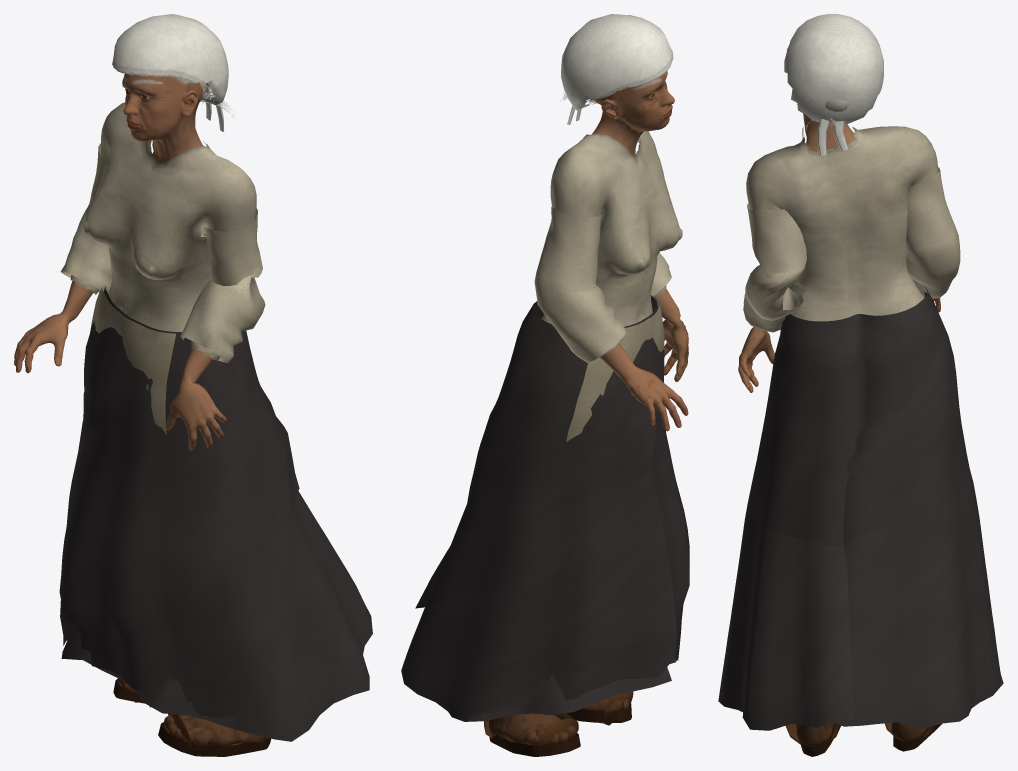
File: SM_Art_Person_elder_woman.gltf
The picture shows the model from 3 angles, left to right: view 1: azimuth 30°, elevation 25°; view 2: azimuth 150°, elevation 25°; view 3: azimuth 270°, elevation 25°; orthographic projection. The views are drawn at different scales.
Parts seen in each view (by area): view 1: SM_Art_Person_elder_woman; view 2: SM_Art_Person_elder_woman; view 3: SM_Art_Person_elder_woman.
Part boxes in pixels (box(x1,y1,x2,y2)): SM_Art_Person_elder_woman: box(14, 14, 372, 756); SM_Art_Person_elder_woman: box(401, 14, 689, 756); SM_Art_Person_elder_woman: box(718, 14, 1003, 756).
Bounding box in the file's own units: 0.728 × 1.66 × 0.6167.
16 materials, 16 textured.
